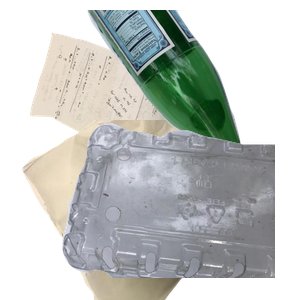glass: (75, 10, 300, 190)
paper: (27, 30, 203, 178)
plastic: (60, 120, 300, 300)
trash: (20, 120, 260, 300)
